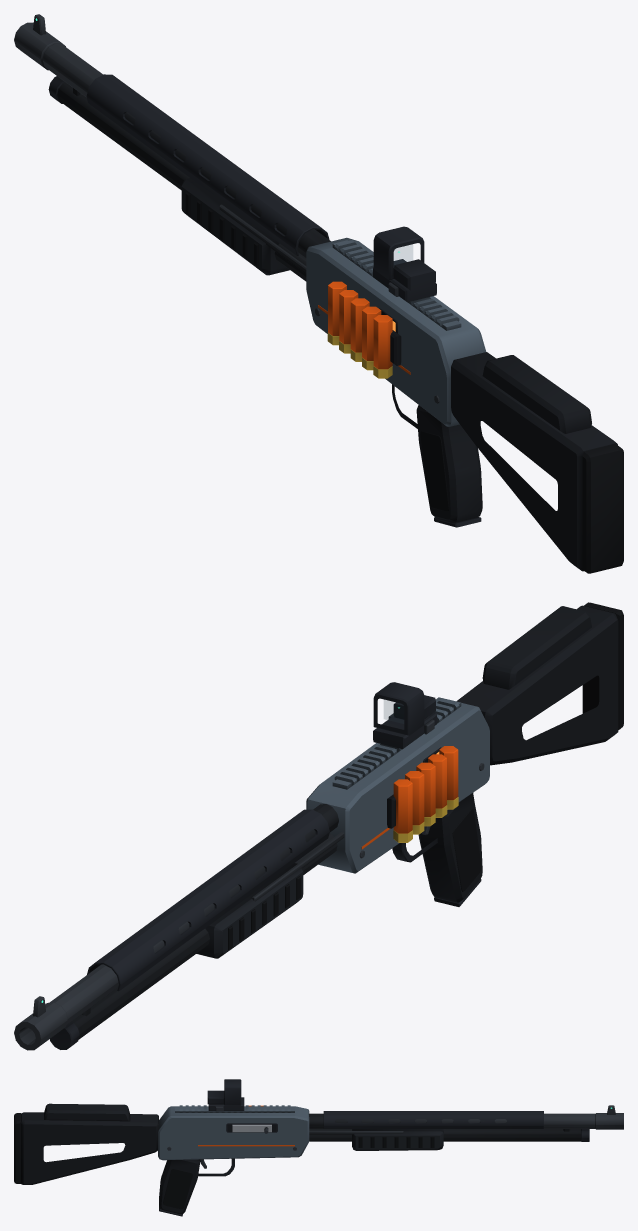
Rendered from breacher-12.glb.
3 renders of one model, top to bottom at view 1: azimuth 30°, elevation 25°; view 2: azimuth 150°, elevation 25°; view 3: azimuth 270°, elevation 25°, orthographic. The views are drawn at different scales.
Visible parts, largest first — view 1: body_polymer, body_frame2, body_frame, body_steel, body_rubber, body_accent, pump_furn, pump_rubber; view 2: body_polymer, body_frame2, body_frame, body_steel, body_accent, body_rubber, pump_furn, pump_rubber, pump_steel, body_brass; view 3: body_polymer, body_frame, body_frame2, body_steel, pump_furn, body_rubber, pump_rubber, bolt_bolt, pump_steel.
Part boxes in pixels (x1,y1,x2,y2): body_polymer: [390, 330, 617, 571]; body_frame2: [48, 74, 481, 527]; body_frame: [306, 237, 486, 426]; body_steel: [14, 14, 439, 403]; body_rubber: [420, 431, 623, 573]; body_accent: [318, 281, 410, 374]; pump_furn: [181, 178, 289, 275]; pump_rubber: [185, 192, 258, 266]; body_polymer: [387, 605, 618, 902]; body_frame2: [50, 682, 481, 1049]; body_frame: [306, 697, 489, 873]; body_steel: [14, 713, 484, 1050]; body_accent: [361, 746, 458, 849]; body_rubber: [452, 602, 623, 891]; pump_furn: [196, 863, 303, 958]; pump_rubber: [228, 875, 301, 949]; pump_steel: [252, 832, 344, 901]; body_brass: [393, 797, 458, 842]; body_polymer: [21, 1103, 276, 1214]; body_frame: [158, 1105, 309, 1160]; body_frame2: [159, 1079, 589, 1216]; body_steel: [167, 1105, 623, 1168]; pump_furn: [352, 1129, 443, 1150]; body_rubber: [14, 1113, 192, 1209]; pump_rubber: [358, 1136, 434, 1147]; bolt_bolt: [232, 1124, 271, 1132]; pump_steel: [309, 1131, 403, 1134].
Size of the model in its own units: 0.0828 by 0.253 by 1.07.
